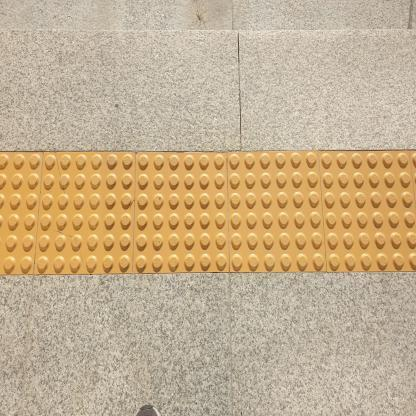podotacti: (0, 140, 415, 284)
